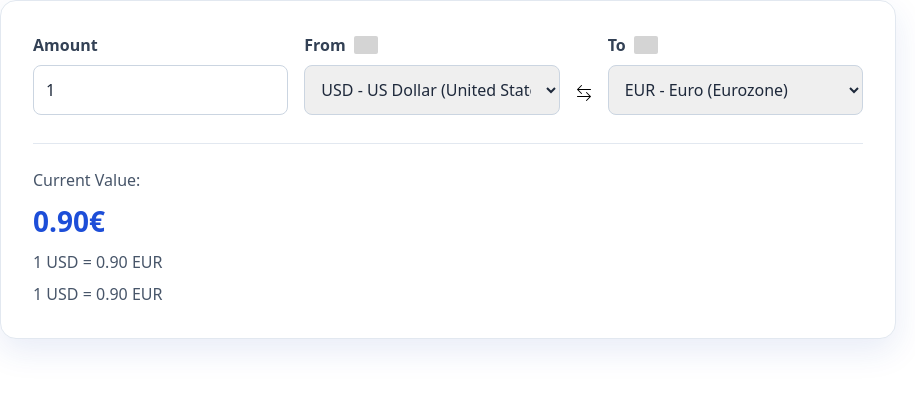
currency conversion with the API › changing the selected currencies › shows an error when the new From currency request fails
The width and height of the screenshot is (915, 402).
Expected: the 1st text "1 USD = 0.90 EUR" is shown, [33,251,162,273]
# Select SGD as the From currency while the server is unavailable for SGD.
Select "SGD - Singapore Dollar (Singapore)" in the dropdown labelled "From" at (432, 90), box [304,65,560,115]
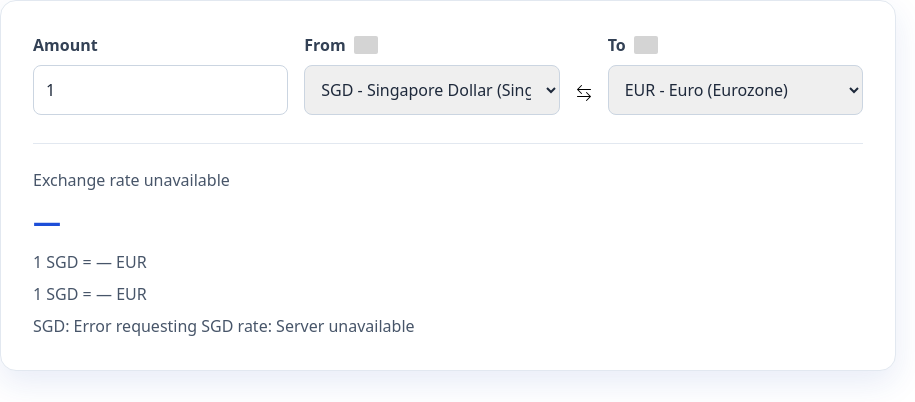
Result: the message reads "SGD: Error requesting SGD rate: Server unavailable" at [33,315,414,337]
Result: the 1st text "1 SGD = — EUR" is shown at [33,251,147,273]
